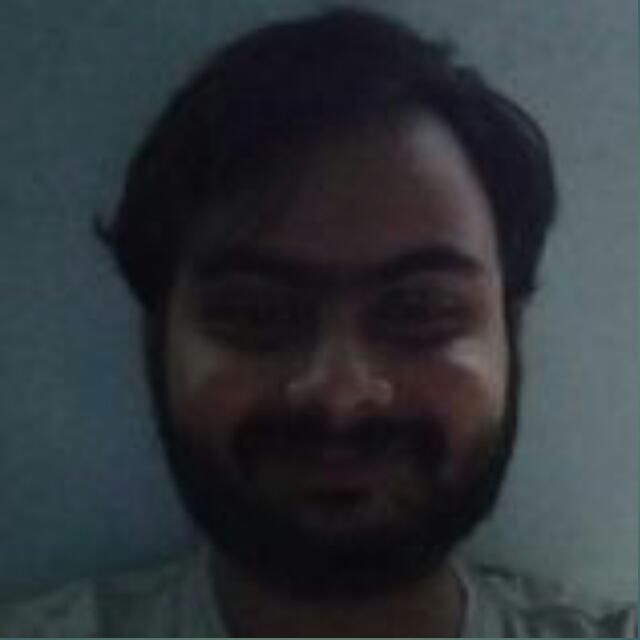Happy: (127, 113, 510, 582)
